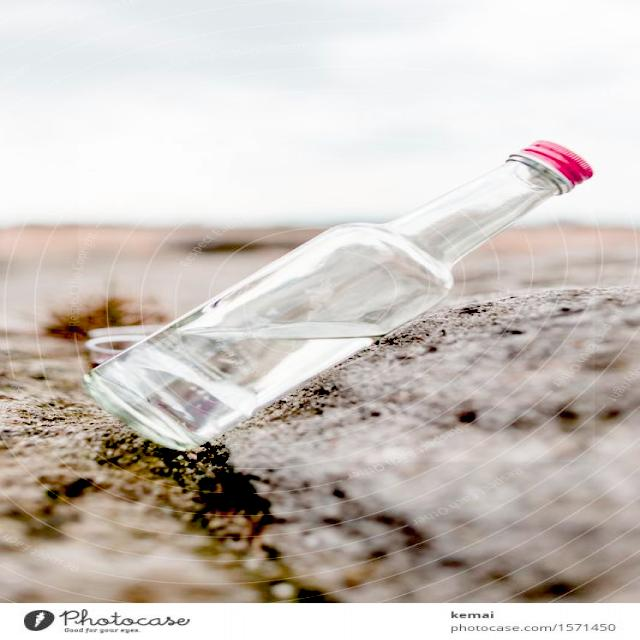half-bottle: (78, 138, 595, 462)
